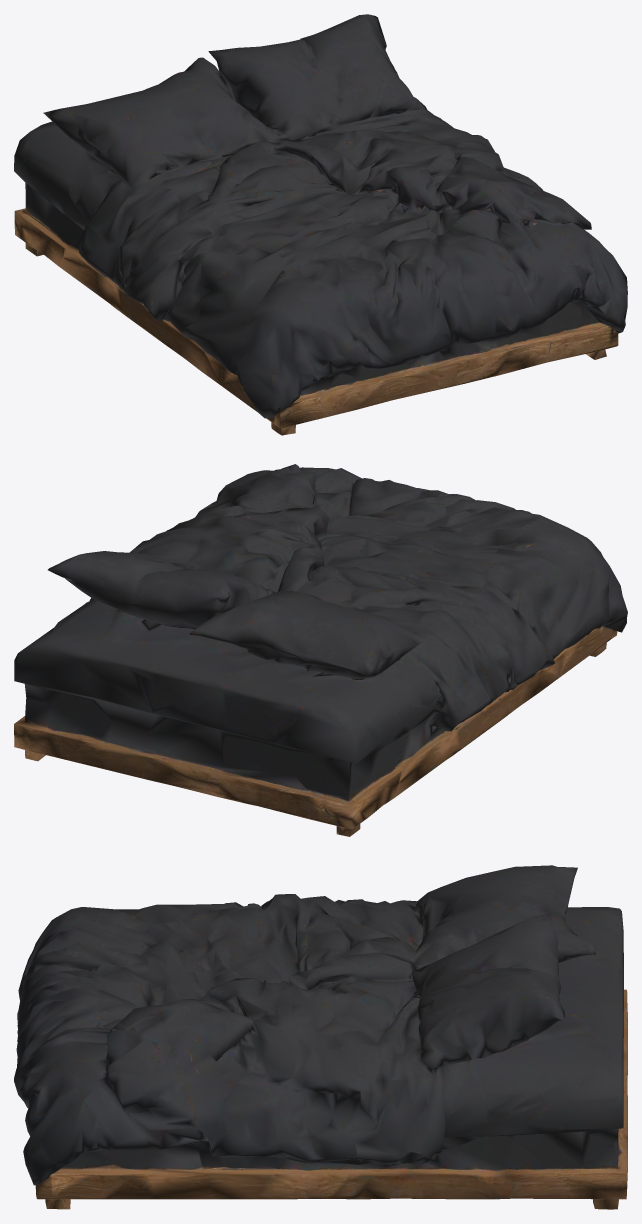
Rendered from mobile.glb.
3 renders of one model, top to bottom at view 1: azimuth 30°, elevation 25°; view 2: azimuth 150°, elevation 25°; view 3: azimuth 270°, elevation 25°, orthographic. The views are drawn at different scales.
Visible parts, largest first — view 1: d-bed; view 2: d-bed; view 3: d-bed.
Part boxes in pixels (bbox=[...]): d-bed: bbox=[14, 14, 627, 435]; d-bed: bbox=[14, 464, 627, 836]; d-bed: bbox=[14, 865, 627, 1209].
Size of the model in its own units: 1.5 by 0.653 by 1.77.
1 material, 1 textured.
